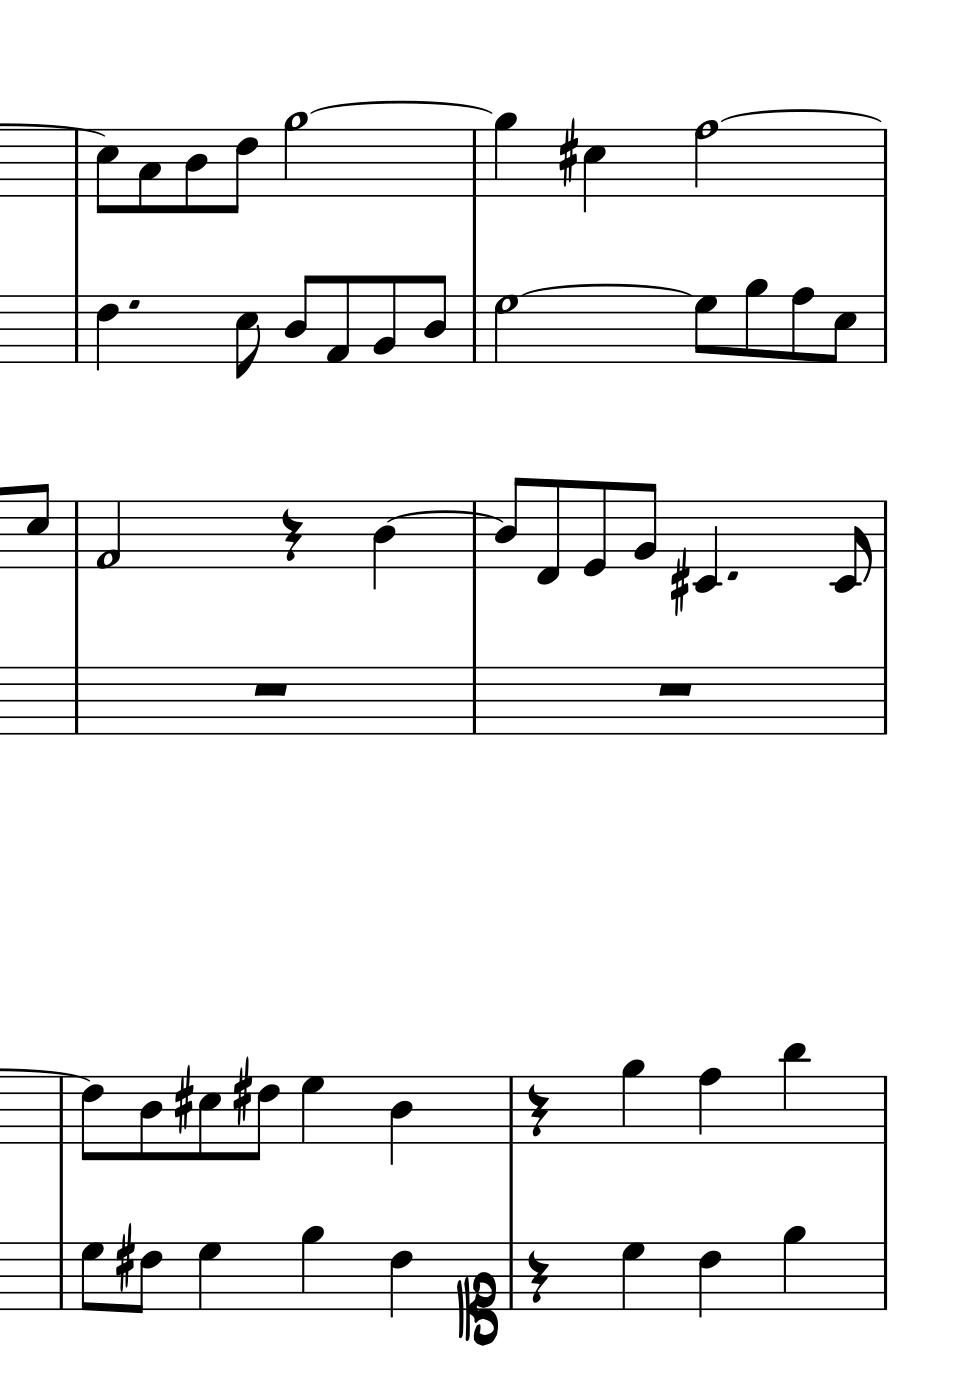2_1: (93, 497, 122, 571)
2_6: (692, 119, 718, 200)
2_7: (491, 294, 517, 365)
2_9: (282, 111, 307, 198)
4_-2: (692, 498, 719, 596)
4_11: (778, 1041, 805, 1147)
4_4: (370, 499, 396, 592), (388, 1075, 413, 1166)
4_5: (581, 127, 606, 214)
4_6: (696, 1240, 722, 1318), (388, 1240, 414, 1320), (95, 294, 119, 371)
4_7: (299, 1074, 325, 1146), (196, 1241, 222, 1311), (619, 1241, 645, 1311)
4_8: (696, 1066, 723, 1146)
4_9: (492, 111, 517, 198), (620, 1058, 645, 1145), (299, 1224, 323, 1311), (781, 1224, 805, 1311)
8_-1: (533, 477, 561, 589)
8_-2: (829, 498, 873, 594)
8_0: (581, 479, 608, 579)
8_1: (323, 274, 351, 366)
8_2: (371, 273, 398, 365), (631, 481, 657, 571)
8_3: (136, 128, 162, 216)
8_4: (493, 476, 527, 571), (283, 273, 316, 364), (182, 126, 209, 215), (422, 273, 448, 365), (137, 1074, 163, 1162)
8_5: (232, 294, 260, 381), (825, 293, 858, 364), (24, 481, 50, 571), (195, 1072, 220, 1161), (94, 127, 118, 215)
8_6: (224, 127, 258, 216), (247, 1075, 281, 1163), (132, 1241, 163, 1316), (78, 1074, 104, 1163)
8_7: (692, 293, 717, 364), (78, 1241, 103, 1313)
8_8: (789, 286, 813, 365)
8_9: (743, 278, 768, 364)
Rests1: (250, 678, 291, 698), (654, 679, 695, 698)
Rests4: (525, 1248, 550, 1305), (525, 1083, 550, 1139), (279, 507, 303, 565)
Sharp: (556, 118, 579, 190), (230, 1057, 253, 1126), (172, 1067, 194, 1134), (113, 1223, 135, 1293), (669, 548, 689, 616)
Single_barline: (465, 294, 485, 363), (875, 1075, 894, 1144), (875, 1243, 894, 1310), (466, 501, 484, 571), (502, 1242, 520, 1310), (502, 1076, 520, 1143), (466, 130, 484, 196), (53, 1080, 70, 1144), (68, 667, 84, 734), (466, 667, 482, 734), (877, 501, 892, 569), (877, 295, 892, 363), (69, 501, 84, 568), (69, 295, 84, 362), (877, 668, 892, 734), (54, 1243, 69, 1309), (878, 130, 892, 197), (69, 136, 84, 197)
Slur: (307, 99, 493, 117), (520, 281, 688, 296), (717, 108, 881, 123), (386, 509, 506, 524)
Soprano_Cclef: (455, 1239, 498, 1345)
dot: (724, 568, 741, 584), (126, 297, 142, 312)
